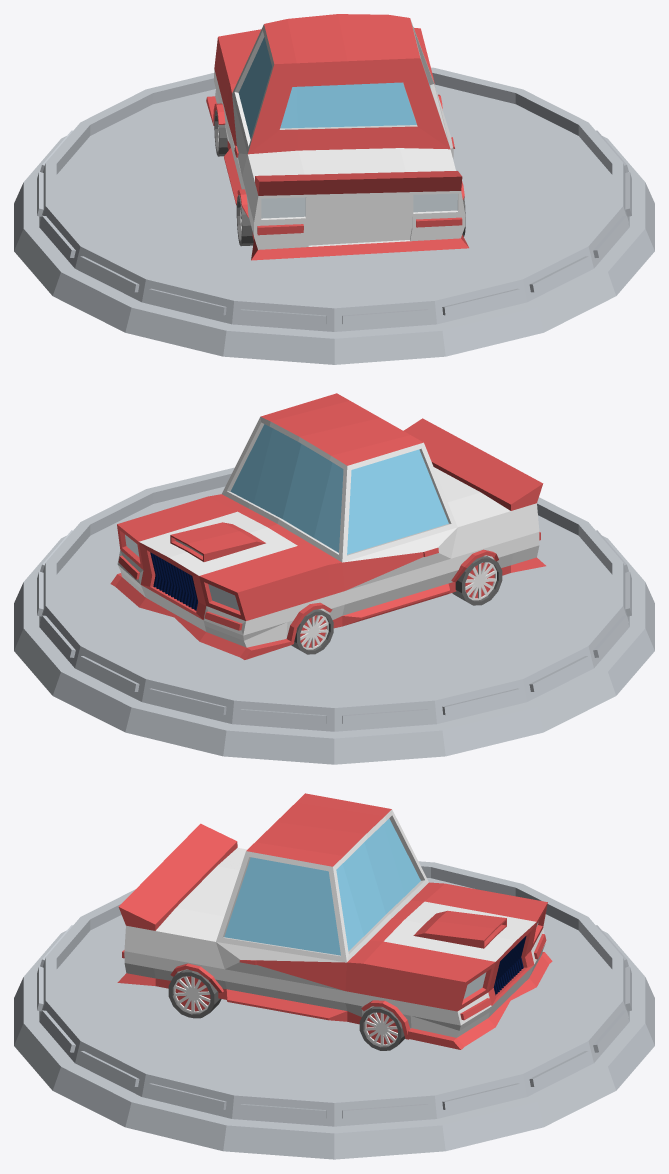
Rendered from test_glb.glb.
3 renders of one model, top to bottom at view 1: azimuth 30°, elevation 25°; view 2: azimuth 150°, elevation 25°; view 3: azimuth 270°, elevation 25°, orthographic.
Visible parts, largest first — view 1: platform, body, backlight, wheel.1; view 2: platform, body, wheel.1, lattice.1, wheel1.1, headlight; view 3: platform, body, wheel.1, wheel1.1, lattice.1.
Boxes of the visible parts, x1,y1,x2,y2 form: platform: (14,67,654,364); body: (206,14,468,260); backlight: (261,193,457,218); wheel.1: (236,195,465,246); platform: (14,467,654,764); body: (110,393,545,659); wheel.1: (452,556,502,605); lattice.1: (150,552,197,610); wheel1.1: (291,609,333,654); headlight: (125,534,239,610); platform: (14,861,654,1159); body: (117,793,552,1049); wheel.1: (168,970,221,1018); wheel1.1: (359,1006,405,1050); lattice.1: (493,936,526,995).
Size of the model in its own units: 3.95 by 1.32 by 3.89.
